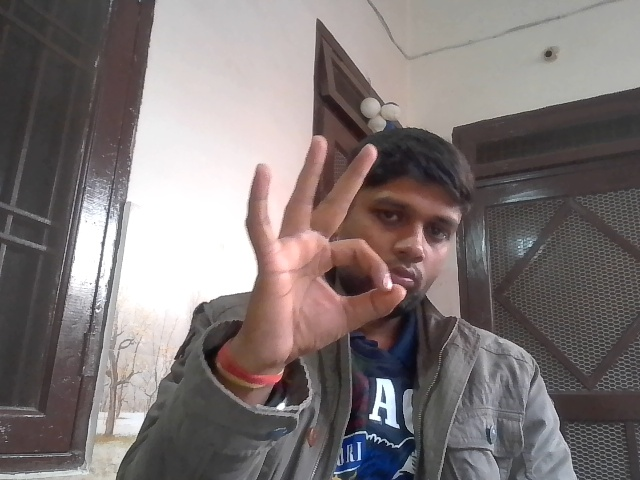Good: (230, 134, 414, 375)
